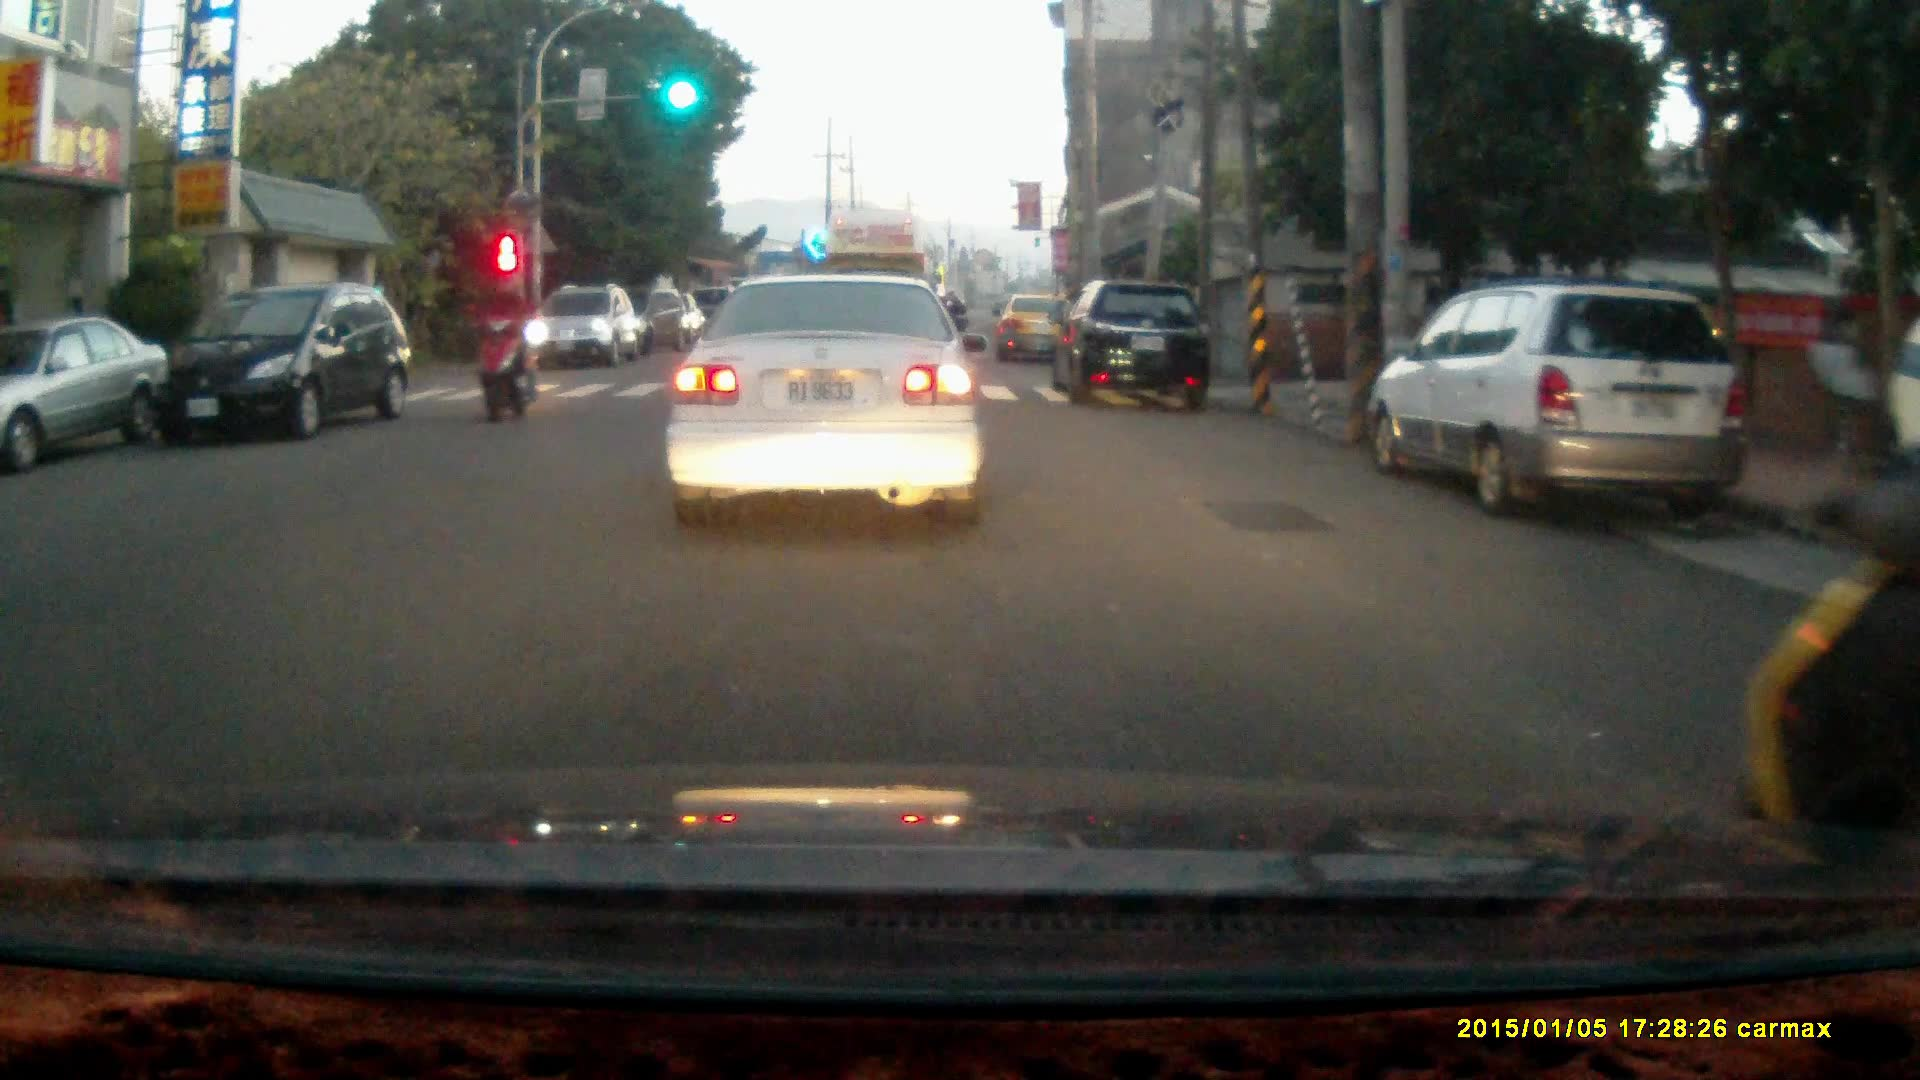rider: (1745, 336, 1920, 870), (477, 266, 539, 426)
vehicle: (1376, 282, 1743, 512), (669, 270, 991, 524), (148, 284, 414, 449), (0, 315, 165, 462), (1052, 277, 1211, 407), (822, 205, 937, 365), (526, 286, 642, 371), (994, 292, 1085, 367)
